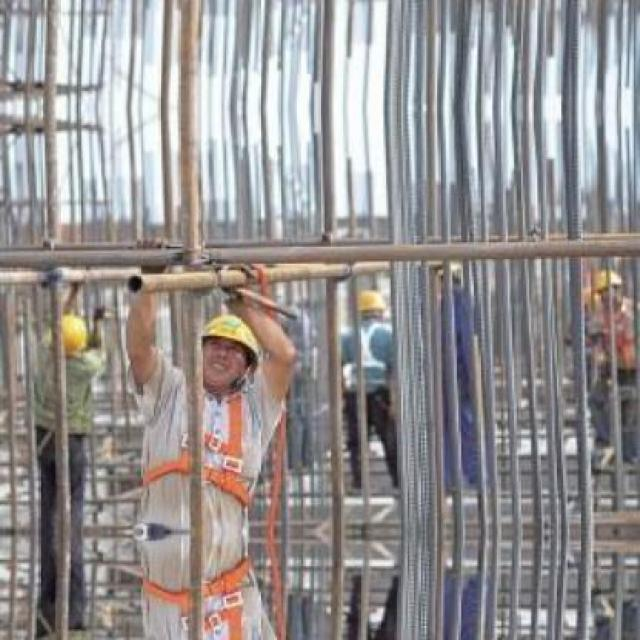hat: (197, 308, 263, 366), (43, 313, 91, 353), (342, 282, 387, 319), (589, 270, 623, 303)
